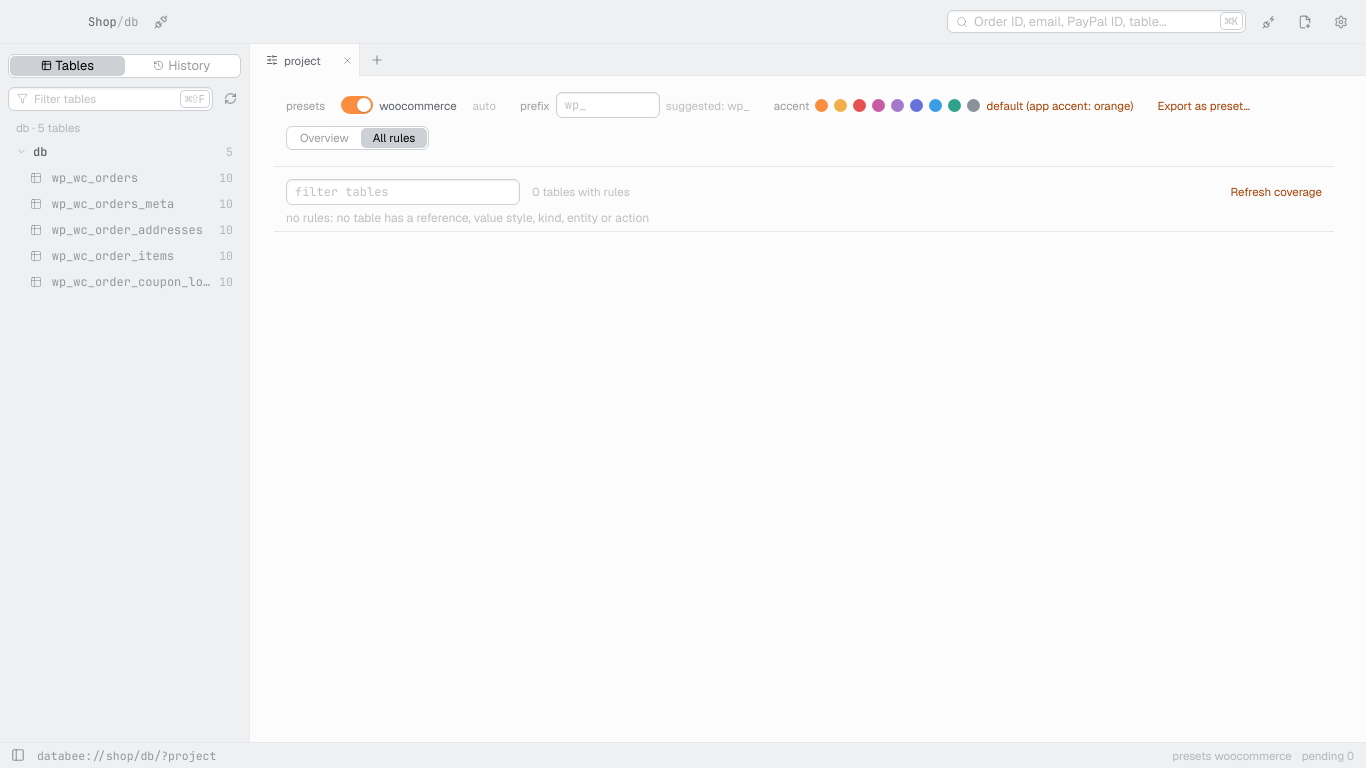
Test case: ProjectPanel › prefix › shows the error Rust returns in place of the suggestion
Check: the element named "Databases" is shown, box [16, 144, 233, 290]
Check: the element named "Presets and prefix" is shown, box [274, 76, 1334, 167]
Type "wc" into the field labelled "prefix" at (608, 105), box [556, 92, 660, 118]
Then press Enter
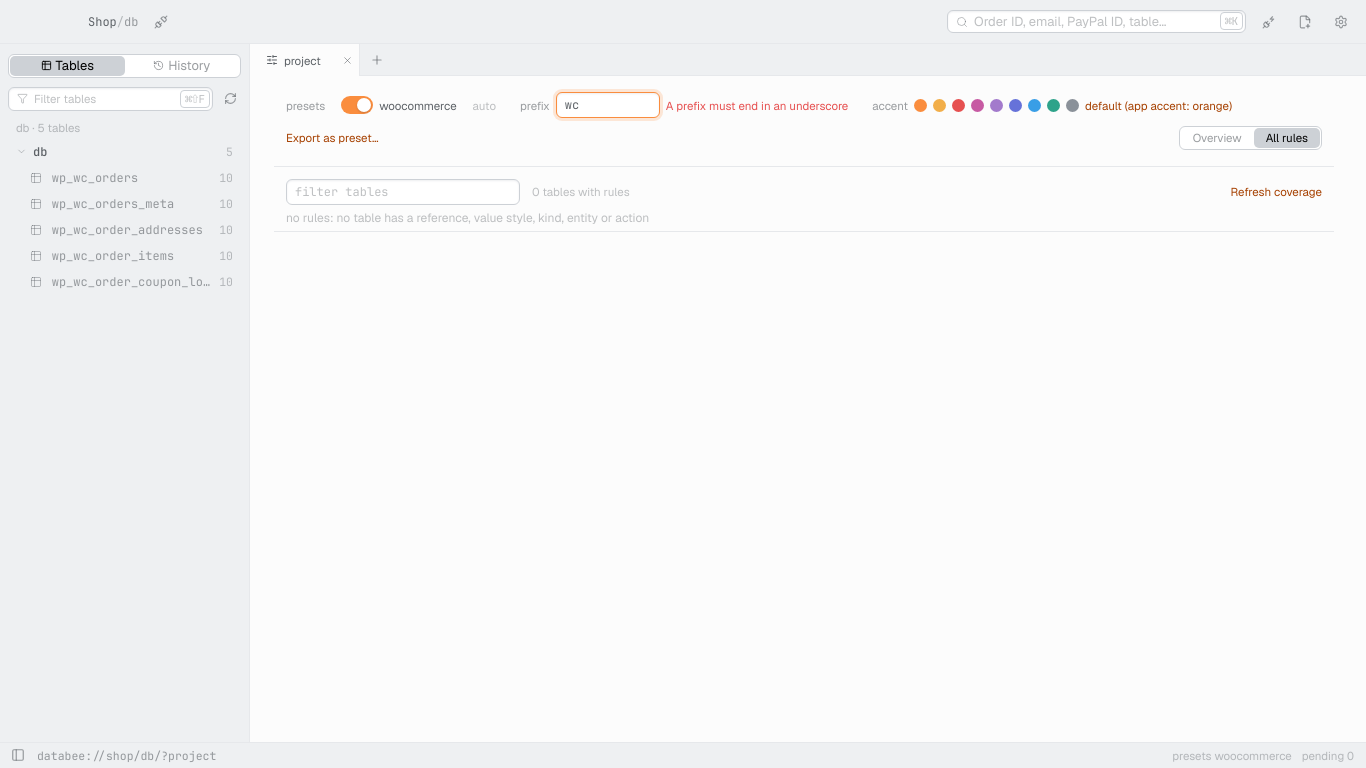
Check: the text "A prefix must end in an underscore" is shown, box [666, 98, 848, 112]
Check: the text "suggested: wp_" is gone
